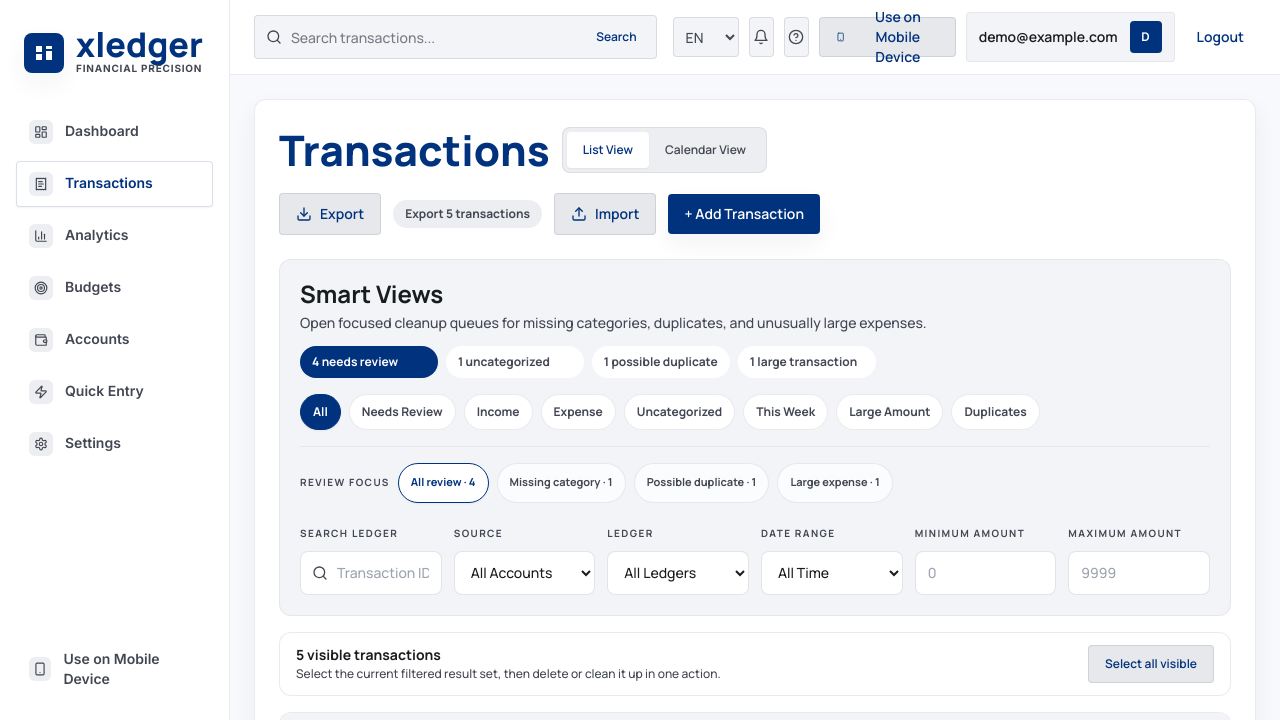
Test case: transactions domain › renders list and calendar transaction views with fetched data
Click the button "Calendar View" at {"x": 705, "y": 150}, box [649,132,762,168]
(page scrolled)
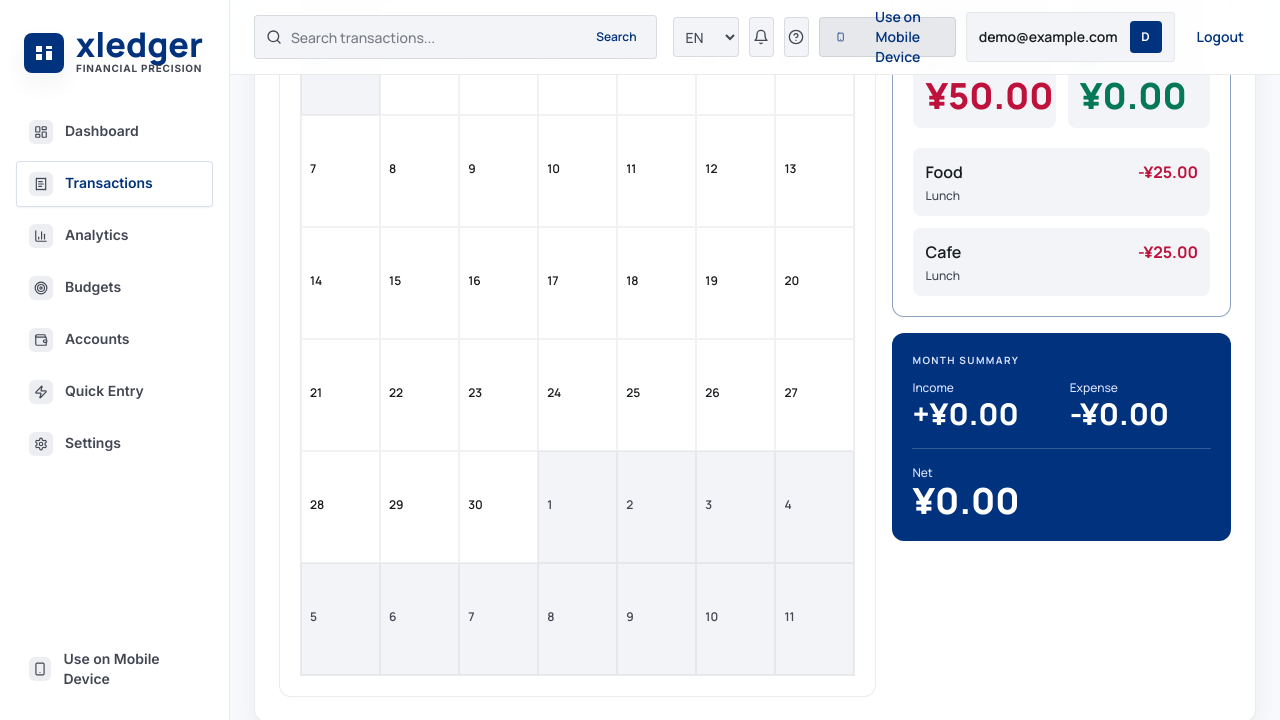
Expected: the text "Month Summary" is shown, [912,352,1019,366]
